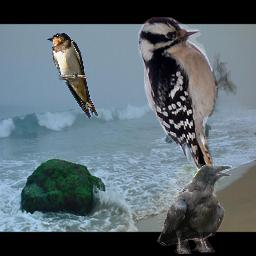Crow: (157, 164, 232, 254)
Swallow: (46, 32, 98, 119)
Woodpecker: (138, 17, 237, 185)
